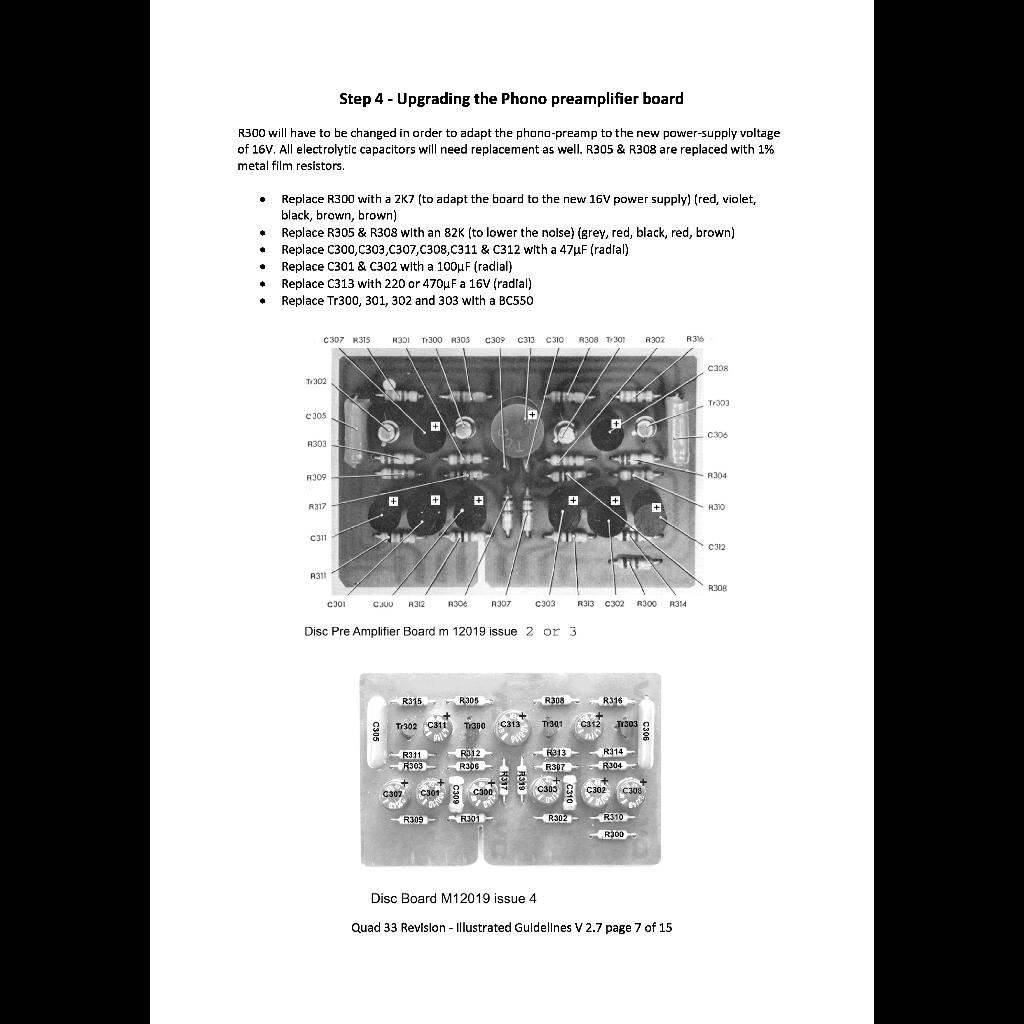Board: (302, 330, 730, 612), (356, 666, 664, 872)
